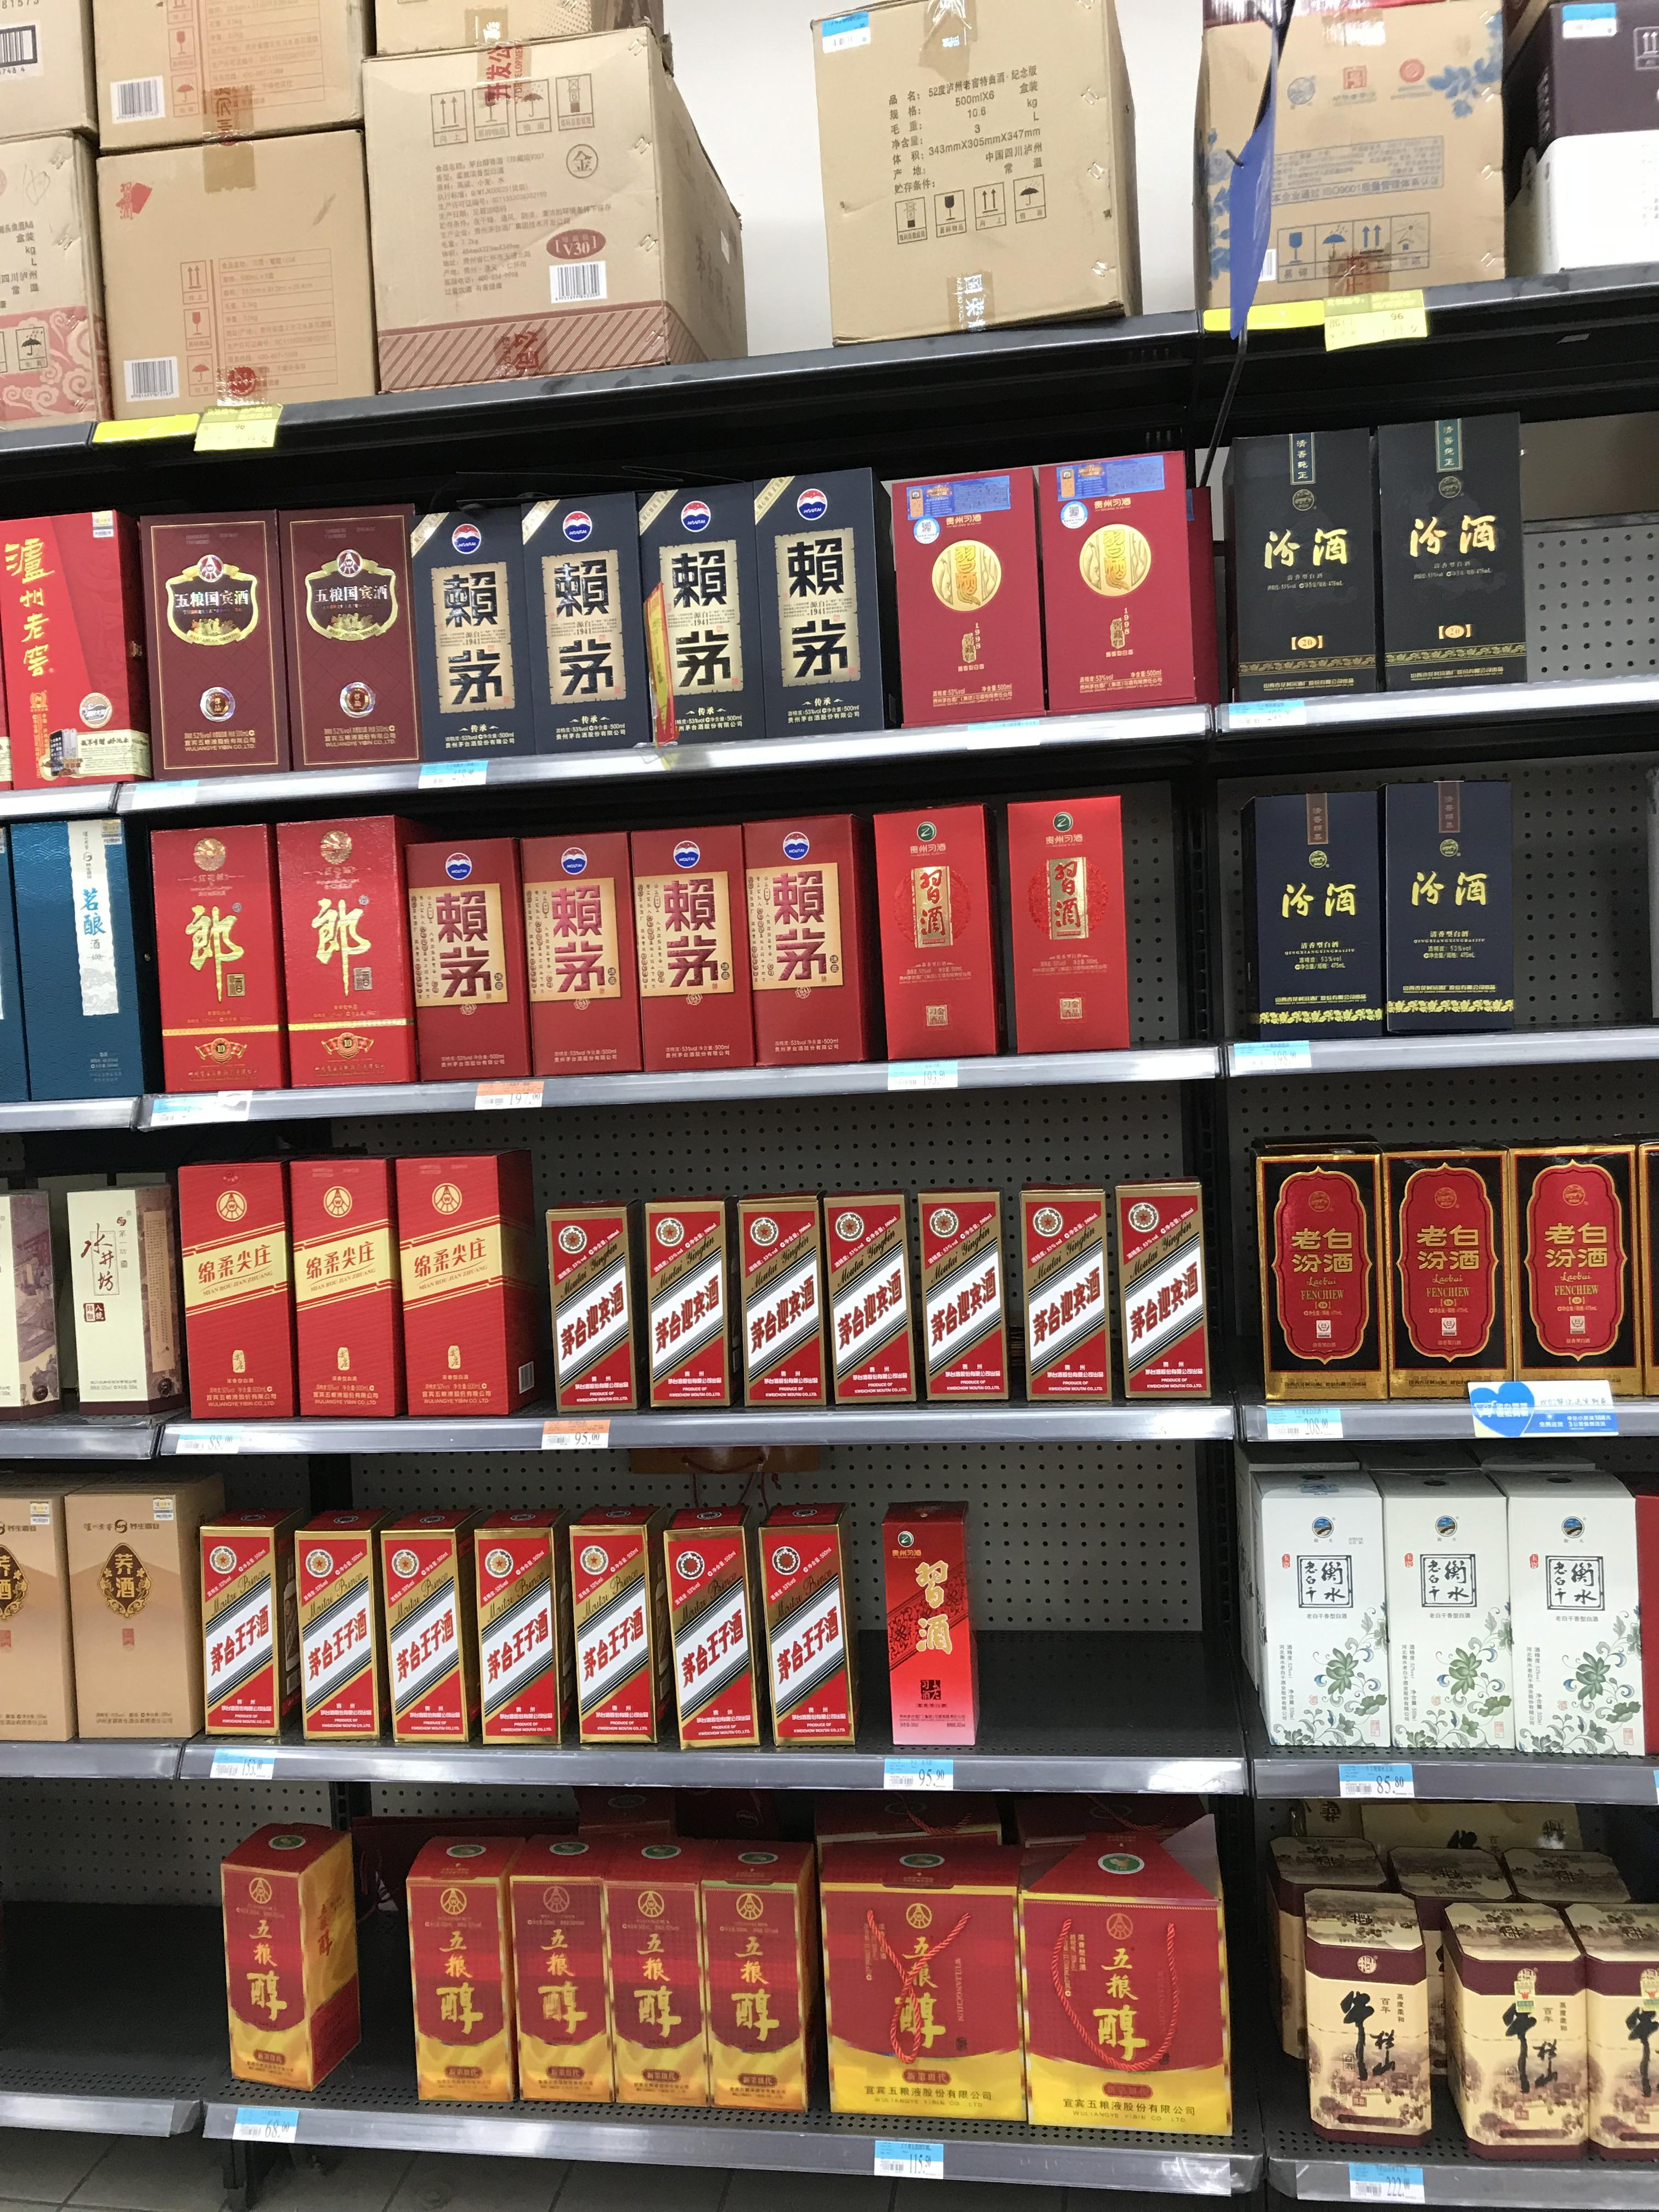bag: (1019, 1827, 1234, 2148), (410, 1834, 526, 2114), (1263, 1132, 1384, 1386)
bottle: (1246, 768, 1385, 1042), (1387, 385, 1511, 690), (1378, 773, 1514, 1031), (1300, 1900, 1434, 2148), (1394, 1141, 1502, 1379), (1523, 1144, 1626, 1374)
box: (1032, 439, 1209, 707), (1213, 430, 1391, 695), (61, 1467, 232, 1738), (129, 803, 281, 1094), (134, 516, 300, 773), (394, 1150, 552, 1411), (1244, 1463, 1385, 1752), (5, 507, 146, 792), (885, 462, 1040, 721), (997, 782, 1141, 1059), (10, 820, 153, 1097), (272, 810, 411, 1085), (268, 514, 422, 759), (1504, 1470, 1635, 1757), (737, 796, 871, 1071), (1380, 1479, 1513, 1757), (868, 791, 1000, 1062), (521, 488, 652, 751), (631, 803, 756, 1071), (223, 1836, 350, 2097), (599, 1832, 713, 2118), (401, 829, 530, 1075), (173, 1160, 298, 1411), (643, 482, 767, 735), (519, 817, 638, 1073), (769, 465, 877, 745), (288, 1157, 403, 1414), (408, 503, 526, 749), (59, 1179, 181, 1416), (878, 1496, 988, 1747), (758, 1500, 863, 1745), (192, 1500, 298, 1738), (568, 1510, 673, 1740), (660, 1507, 758, 1743), (293, 1514, 394, 1738), (542, 1200, 643, 1416), (477, 1507, 572, 1738), (1114, 1177, 1211, 1399), (383, 1515, 481, 1737), (1016, 1186, 1114, 1399), (0, 1468, 71, 1747), (915, 1188, 1009, 1399), (648, 1202, 739, 1409), (823, 1193, 913, 1399), (741, 1197, 819, 1406)
jar: (1443, 1912, 1586, 2158), (1556, 1925, 1657, 2161)
others: (767, 0, 1155, 355), (350, 2, 725, 366), (92, 80, 390, 413), (1206, 12, 1511, 320), (823, 1838, 1058, 2130), (1502, 9, 1652, 301), (73, 0, 383, 141), (688, 1832, 817, 2120)
